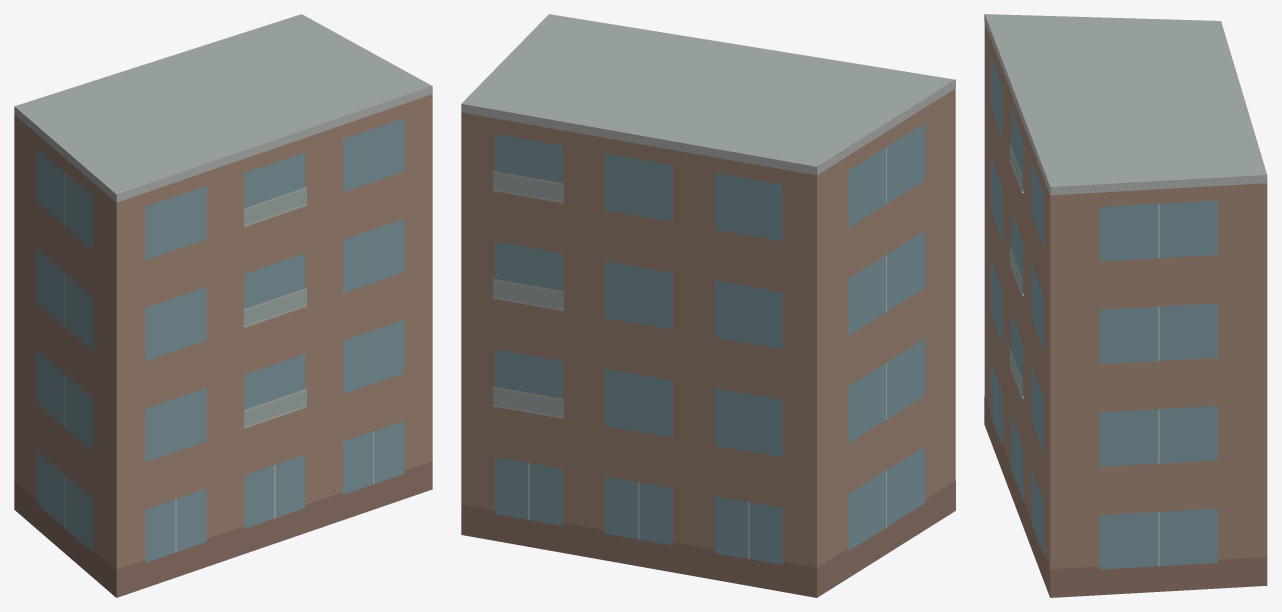
Rendered from survey-upis-32819433.glb.
The picture shows the model from 3 angles, left to right: view 1: azimuth 30°, elevation 25°; view 2: azimuth 150°, elevation 25°; view 3: azimuth 270°, elevation 25°; orthographic projection. The views are drawn at different scales.
Parts seen in each view (by area): view 1: survey-upis-32819433.tmp; view 2: survey-upis-32819433.tmp; view 3: survey-upis-32819433.tmp.
Part boxes in pixels (x1=…): survey-upis-32819433.tmp: x1=14, y1=14, x2=432, y2=597; survey-upis-32819433.tmp: x1=461, y1=14, x2=955, y2=597; survey-upis-32819433.tmp: x1=984, y1=14, x2=1267, y2=597.
Size of the model in its own units: 11.04 by 12.2 by 7.62.
